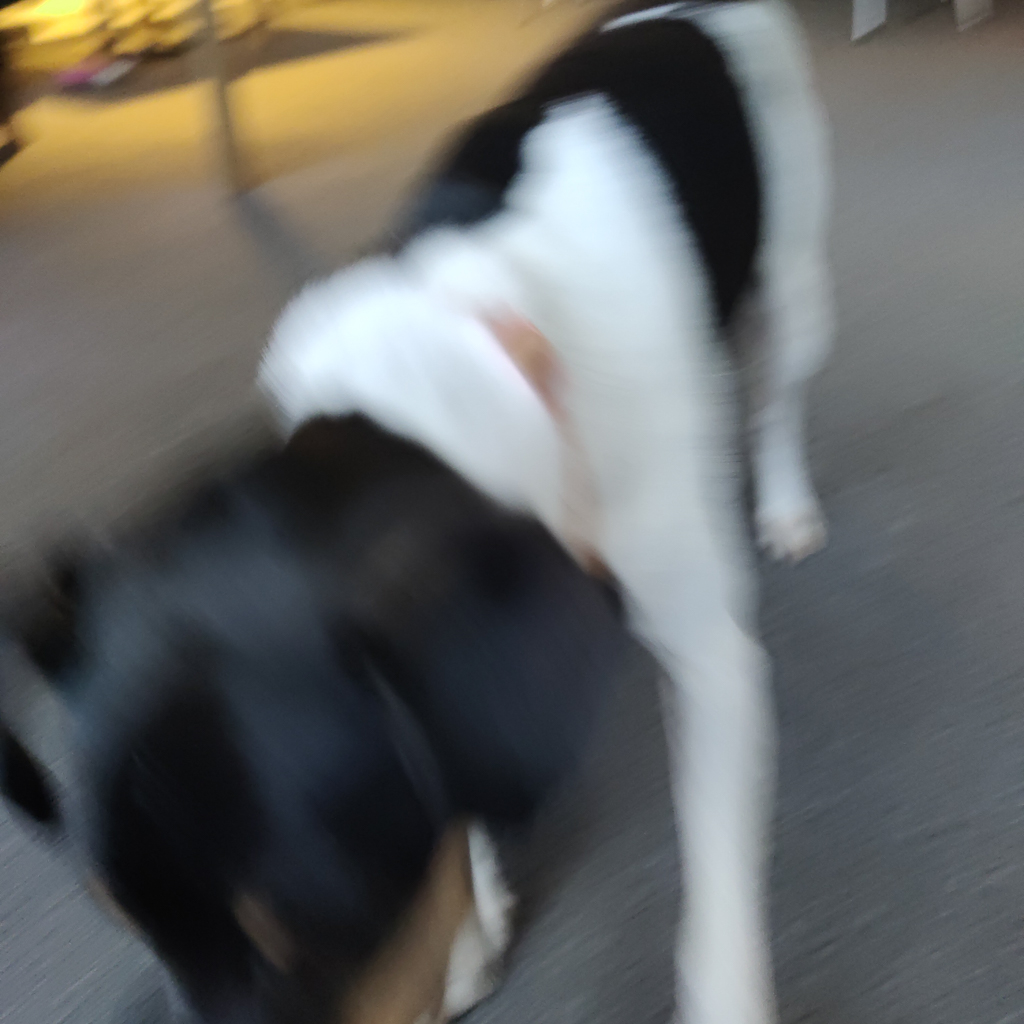Dog: (0, 0, 868, 1024)
